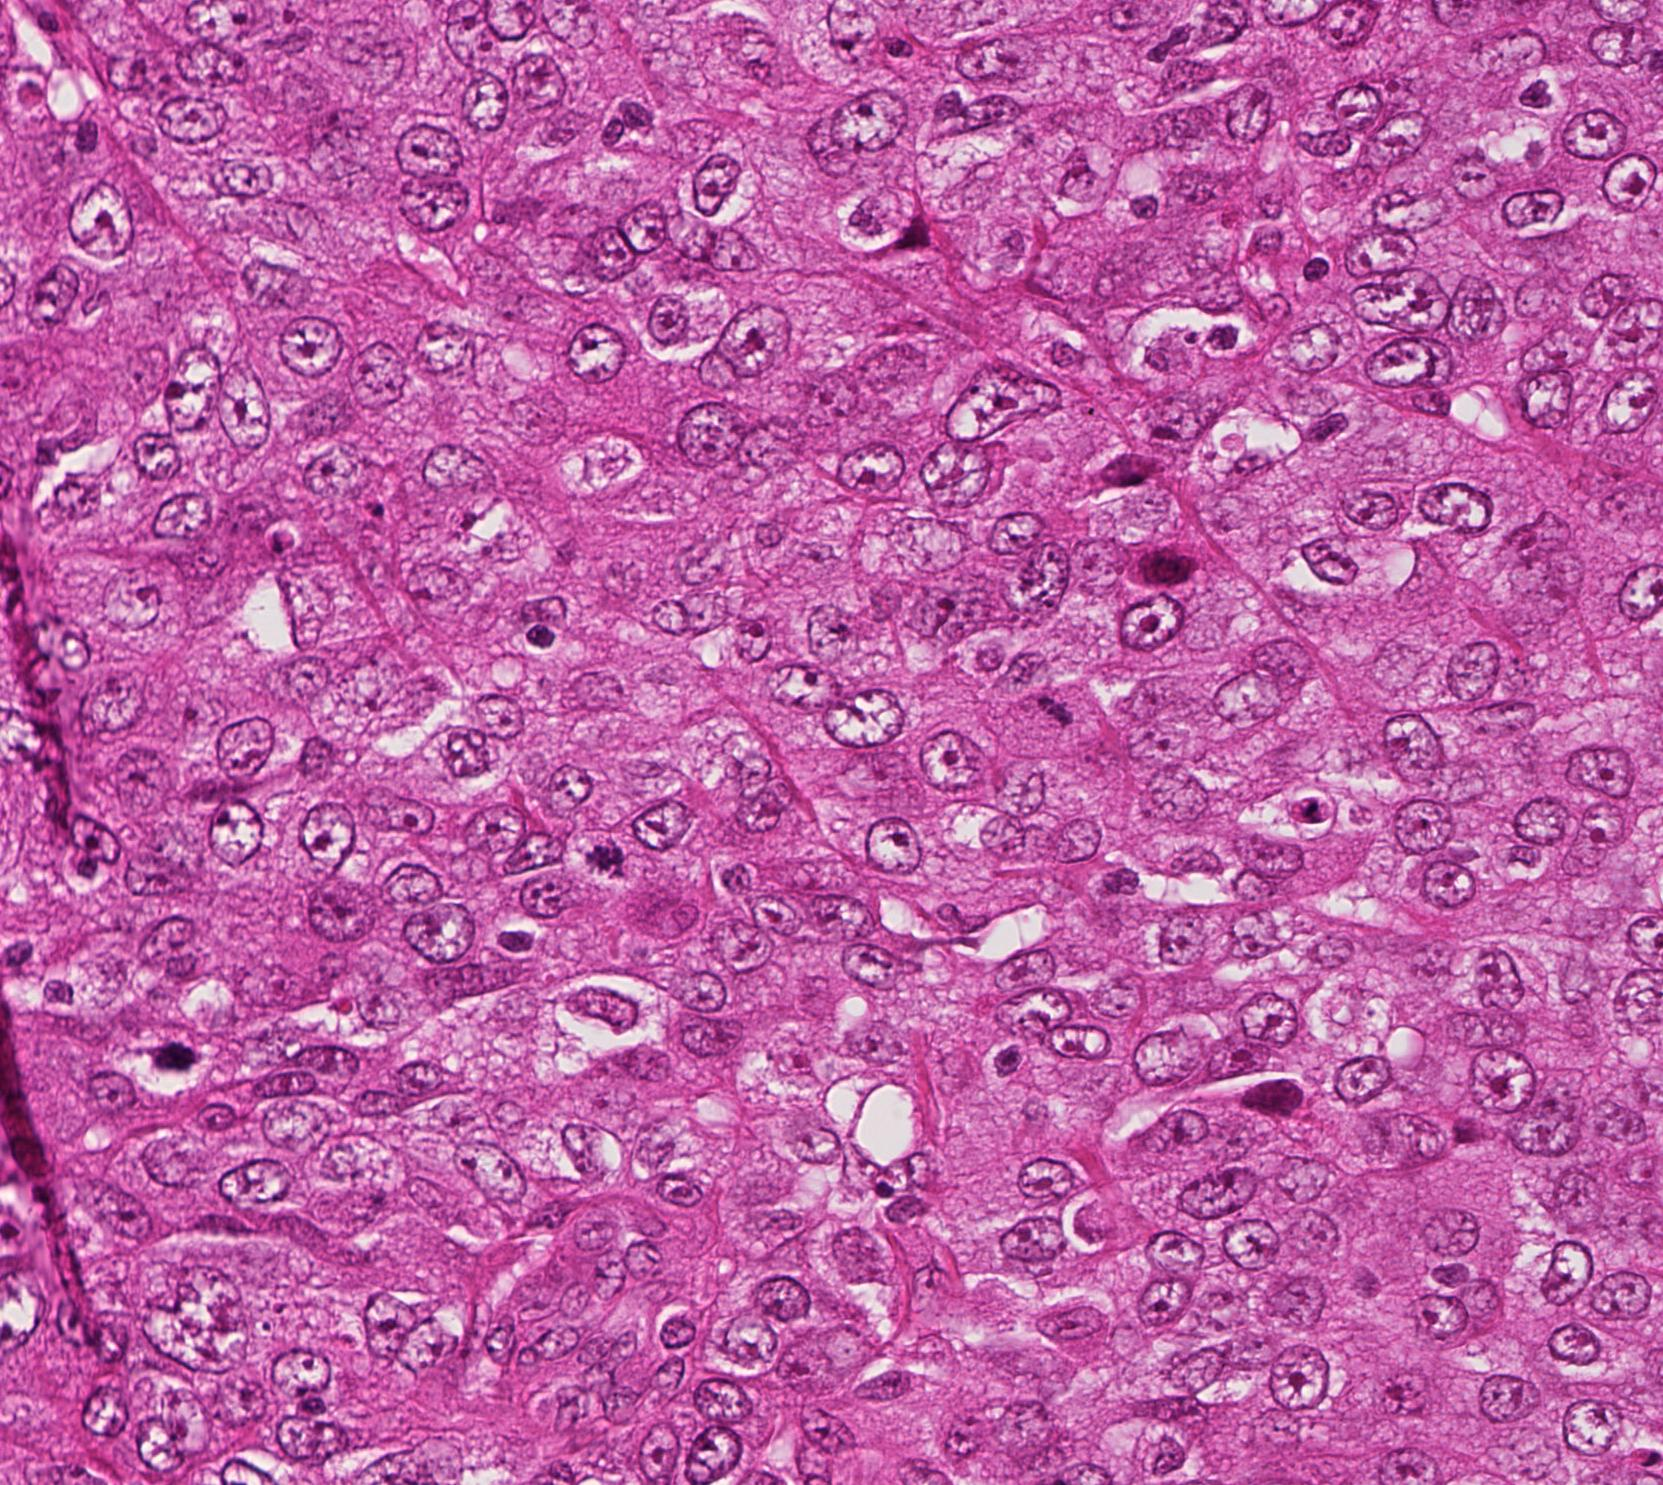mitosis: (1029, 678, 1090, 738), (573, 829, 634, 889)
